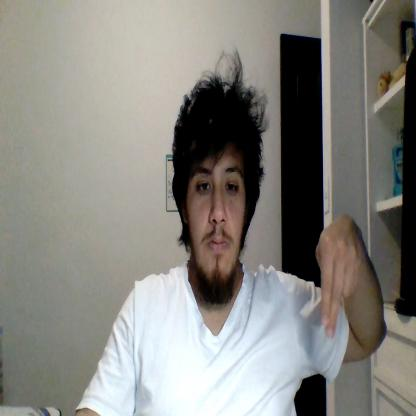N: (316, 215, 365, 339)
